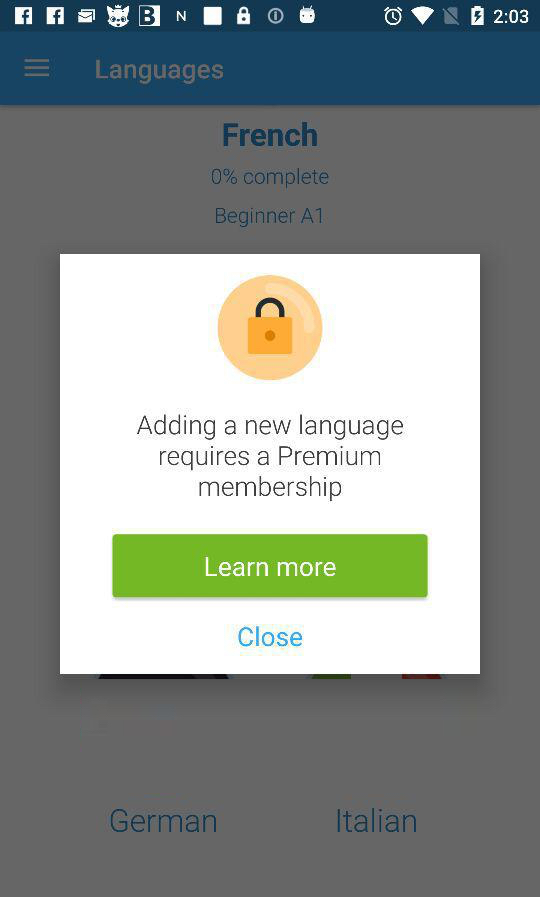Icon: (218, 275, 323, 381), (24, 59, 51, 78)
Modal: (60, 254, 481, 675)
Text: (137, 413, 405, 502), (96, 60, 224, 86), (110, 808, 217, 833), (212, 168, 329, 190), (224, 123, 318, 148), (216, 207, 322, 228), (337, 808, 416, 833), (238, 625, 304, 648)
TextButton: (113, 534, 428, 598)
UpperTaskBar: (1, 1, 540, 33)
